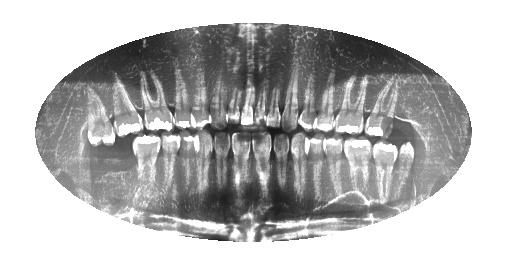i10decay: (209, 129, 237, 195)
i11healthy: (190, 128, 215, 195)
i12healthy: (172, 126, 196, 181)
i13healthy: (158, 130, 182, 187)
i14healthy: (128, 131, 165, 187)
i15loss: (110, 144, 139, 192)
i16loss: (92, 145, 118, 192)
i1healthy: (395, 135, 417, 197)
i2healthy: (370, 136, 400, 203)
i3healthy: (340, 134, 377, 196)
i4healthy: (320, 136, 349, 202)
i5healthy: (306, 135, 330, 201)
i6healthy: (287, 129, 313, 199)
i7decay: (268, 129, 294, 194)
i8decay: (248, 127, 277, 198)
i9decay: (227, 129, 256, 200)
u10healthy: (221, 63, 245, 127)
u11healthy: (203, 63, 232, 130)
u12healthy: (185, 61, 215, 130)
u13healthy: (164, 61, 200, 130)
u14healthy: (132, 64, 177, 133)
u15healthy: (105, 66, 147, 137)
u16healthy: (77, 84, 121, 150)
u1loss: (395, 74, 420, 140)
u2healthy: (363, 65, 404, 141)
u3healthy: (332, 62, 369, 137)
u4healthy: (312, 61, 341, 134)
u5healthy: (295, 60, 321, 132)
u6healthy: (274, 61, 303, 131)
u7healthy: (260, 66, 289, 129)
u8healthy: (250, 63, 272, 129)
u9healthy: (234, 62, 258, 127)
